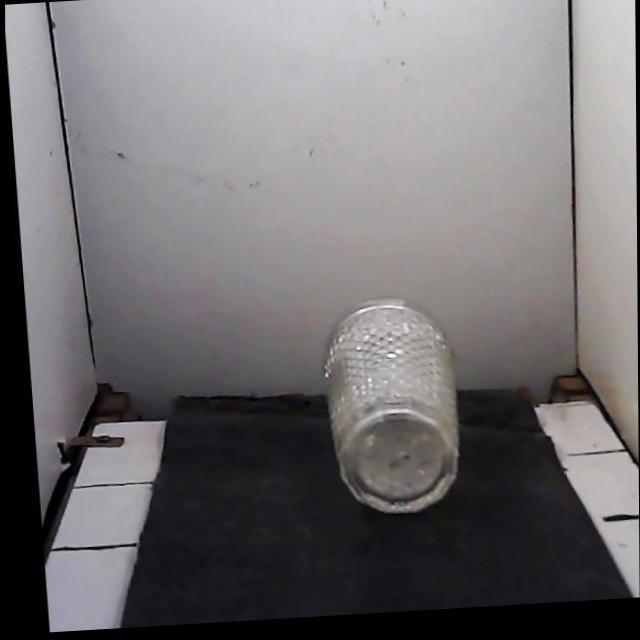vidro: (326, 300, 458, 513)
